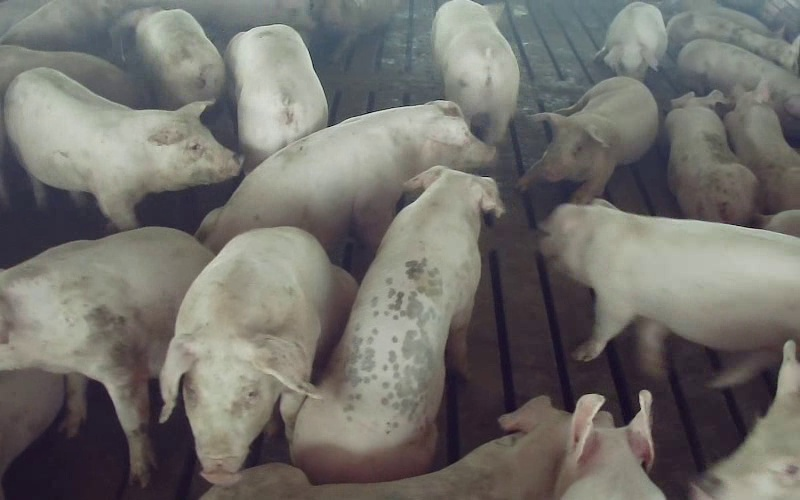pig: (291, 166, 502, 481), (0, 227, 212, 485), (160, 228, 354, 483), (542, 200, 799, 388), (196, 101, 495, 253), (5, 68, 239, 229), (519, 77, 657, 203), (225, 24, 327, 172), (677, 39, 799, 145), (432, 0, 519, 144), (665, 91, 757, 224), (120, 8, 224, 109), (724, 81, 799, 213), (666, 12, 799, 73), (596, 2, 667, 80)
